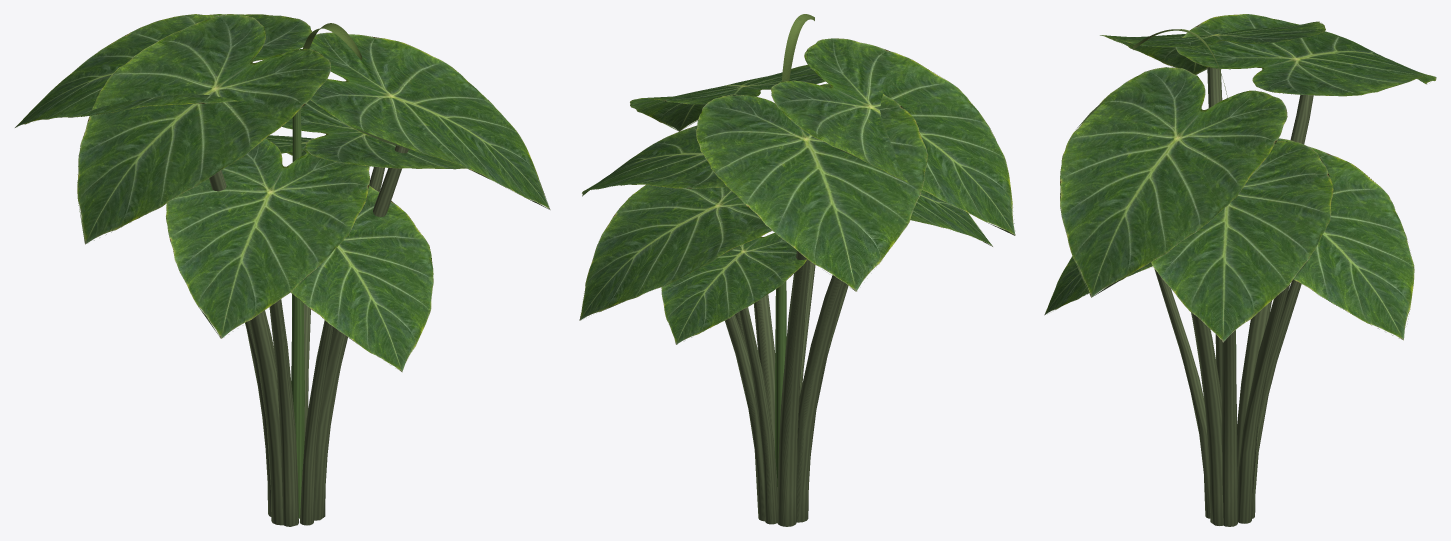
File: taro-4.glb
3 views of the same model, side by side, from view 1: azimuth 30°, elevation 25°; view 2: azimuth 150°, elevation 25°; view 3: azimuth 270°, elevation 25° (orthographic). The views are drawn at different scales.
Parts seen in each view (by area): view 1: leaf, petiole; view 2: leaf, petiole, leaf-back, new-leaf; view 3: leaf, petiole, leaf-back.
Part boxes in pixels (x1=…): leaf: x1=15, y1=14, x2=550, y2=371; petiole: x1=209, y1=109, x2=408, y2=526; leaf: x1=579, y1=38, x2=1015, y2=344; petiole: x1=725, y1=251, x2=848, y2=526; leaf-back: x1=582, y1=98, x2=705, y2=196; new-leaf: x1=782, y1=14, x2=814, y2=81; leaf: x1=1044, y1=14, x2=1430, y2=342; petiole: x1=1154, y1=67, x2=1313, y2=526; leaf-back: x1=1100, y1=35, x2=1436, y2=84.
Size of the model in its own units: 1.25 by 1.36 by 0.9807.
5 materials, 4 textured.
